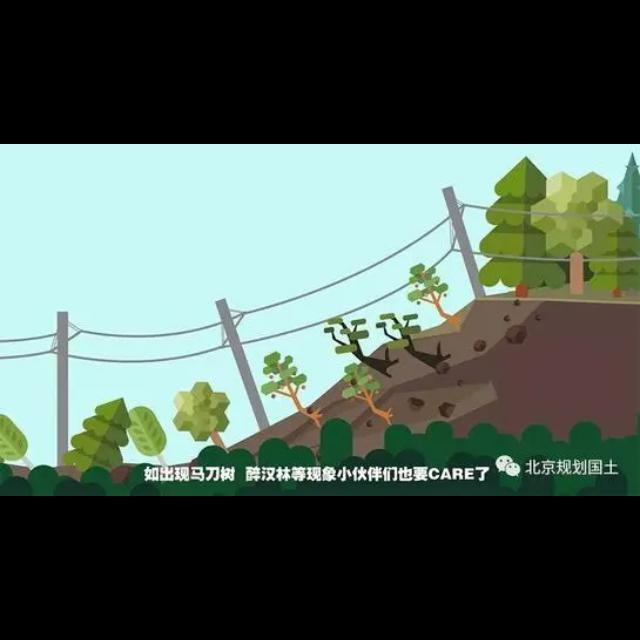fallen_tree: (256, 348, 324, 426), (63, 397, 131, 468), (321, 316, 397, 376), (376, 313, 450, 371), (170, 382, 228, 452), (340, 364, 396, 424), (408, 261, 458, 323), (124, 403, 170, 467), (2, 410, 40, 468)
